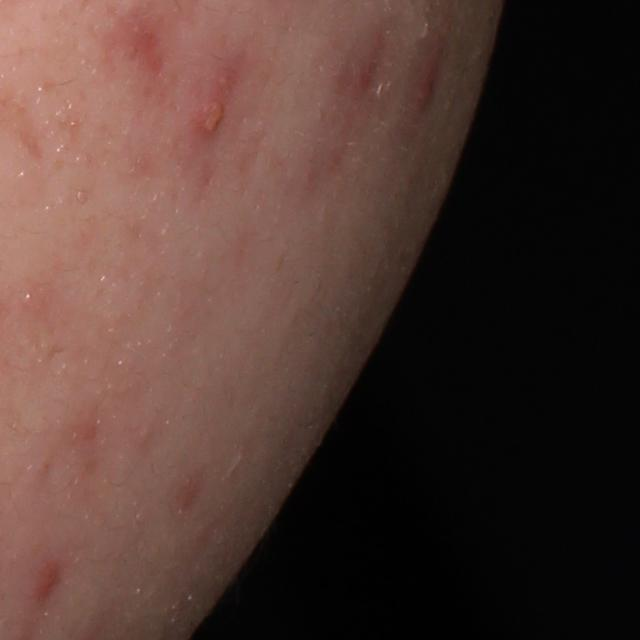papule: (407, 60, 441, 114), (34, 559, 59, 605)
pustule: (193, 87, 233, 140)
